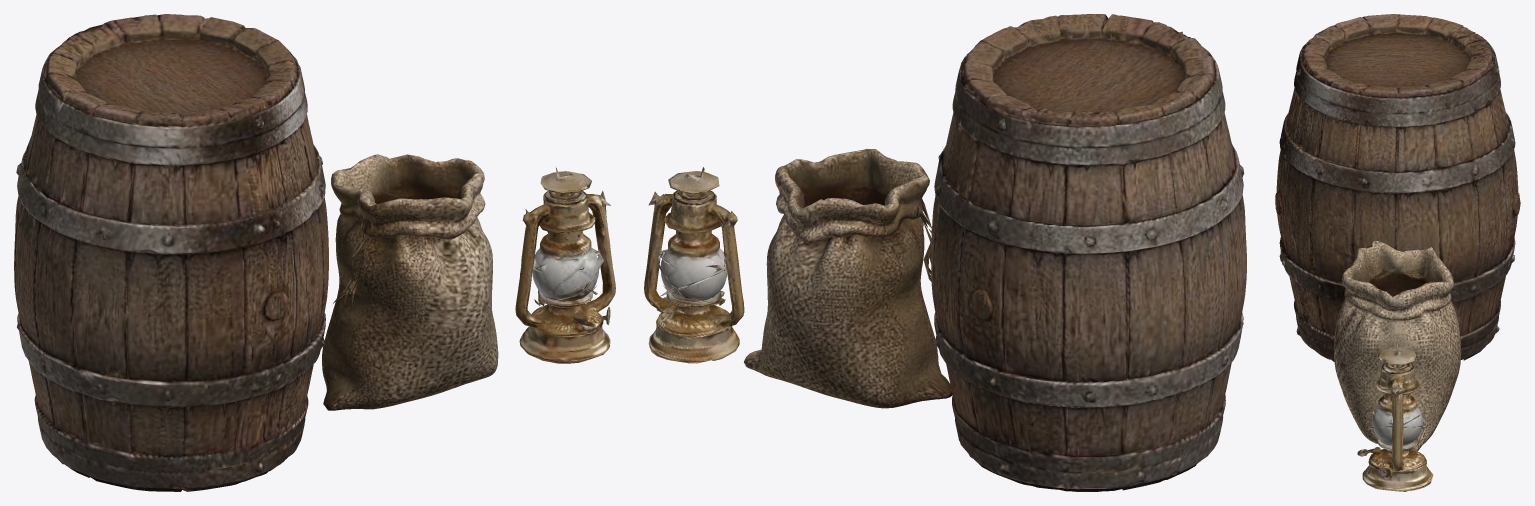
File: beczka.glb
3 renders of one model, left to right at view 1: azimuth 30°, elevation 25°; view 2: azimuth 150°, elevation 25°; view 3: azimuth 270°, elevation 25°, orthographic. The views are drawn at different scales.
Parts seen in each view (by area): view 1: tripo_node_54e44471-2ed4-42ee-b51d-0c8597eba9c2; view 2: tripo_node_54e44471-2ed4-42ee-b51d-0c8597eba9c2; view 3: tripo_node_54e44471-2ed4-42ee-b51d-0c8597eba9c2.
Boxes of the visible parts, <box> form: tripo_node_54e44471-2ed4-42ee-b51d-0c8597eba9c2: <box>14,14,615,491</box>; tripo_node_54e44471-2ed4-42ee-b51d-0c8597eba9c2: <box>644,14,1246,491</box>; tripo_node_54e44471-2ed4-42ee-b51d-0c8597eba9c2: <box>1275,14,1520,491</box>.
Size of the model in its own units: 0.9797 by 0.6038 by 0.4774.
Materials: 1 (1 with a texture image).
